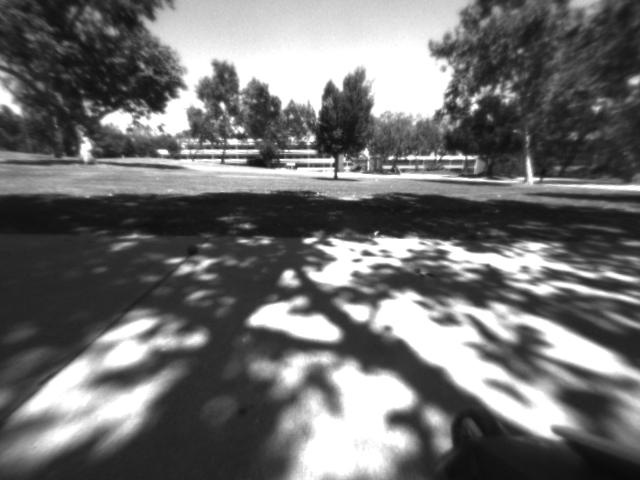dogtoy: (180, 241, 203, 258)
